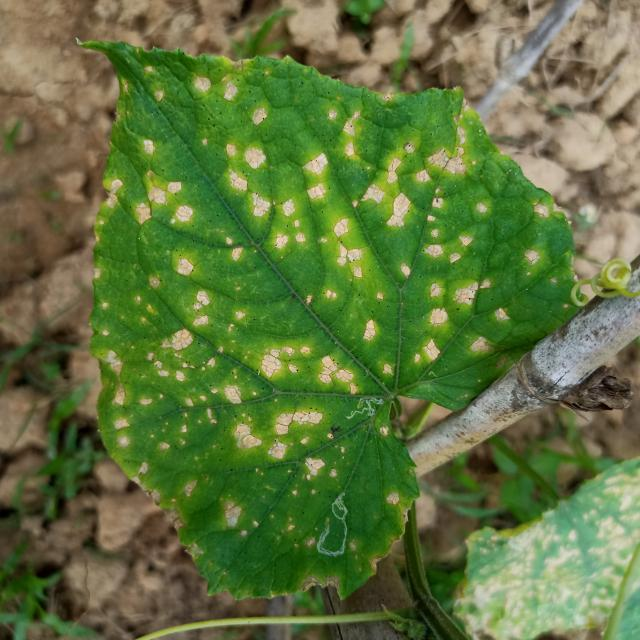disease_cucumber: (100, 70, 530, 570)
